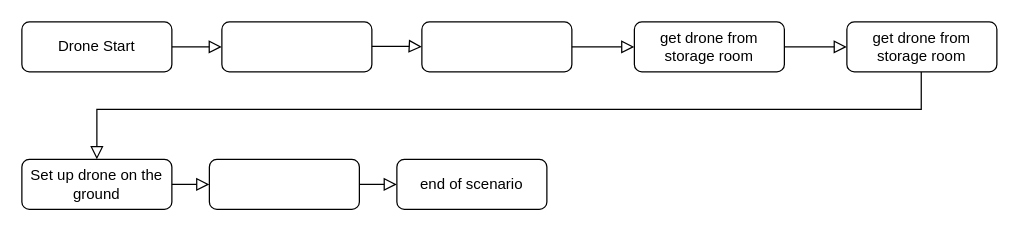
This 1019x231 diagram has some shape labels left out. Each missing label, with the box of its shape:
Fly the drone: (208, 158, 359, 209)
Get card approved for drone: (421, 21, 572, 72)
Go find a teacher: (221, 21, 372, 72)
